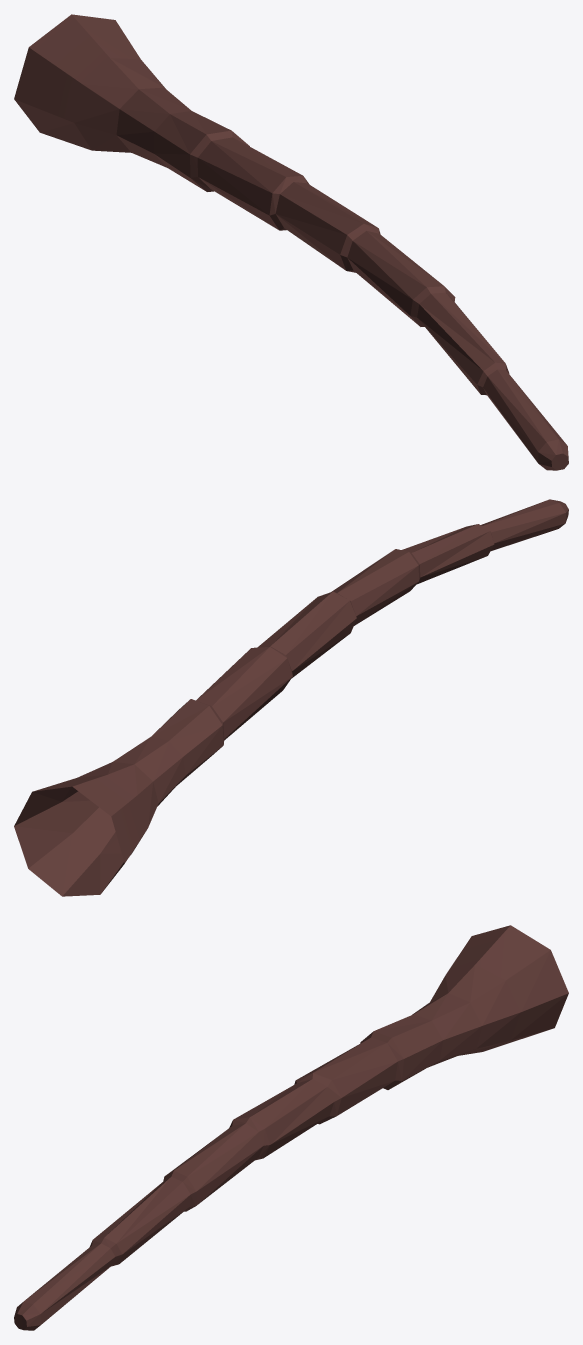
File: PalmBent1.glb
The picture shows the model from 3 angles, top to bottom: view 1: azimuth 30°, elevation 25°; view 2: azimuth 150°, elevation 25°; view 3: azimuth 330°, elevation 25°; orthographic projection. The views are drawn at different scales.
Parts seen in each view (by area): view 1: PalmBent1; view 2: PalmBent1; view 3: PalmBent1.
Boxes of the visible parts, left/top/right/bottom form: PalmBent1: left=14, top=14, right=568, bottom=470; PalmBent1: left=14, top=499, right=568, bottom=896; PalmBent1: left=14, top=925, right=568, bottom=1330.
Bounding box in the file's own units: 0.6882 × 0.6756 × 5.05.
1 material, 1 textured.
